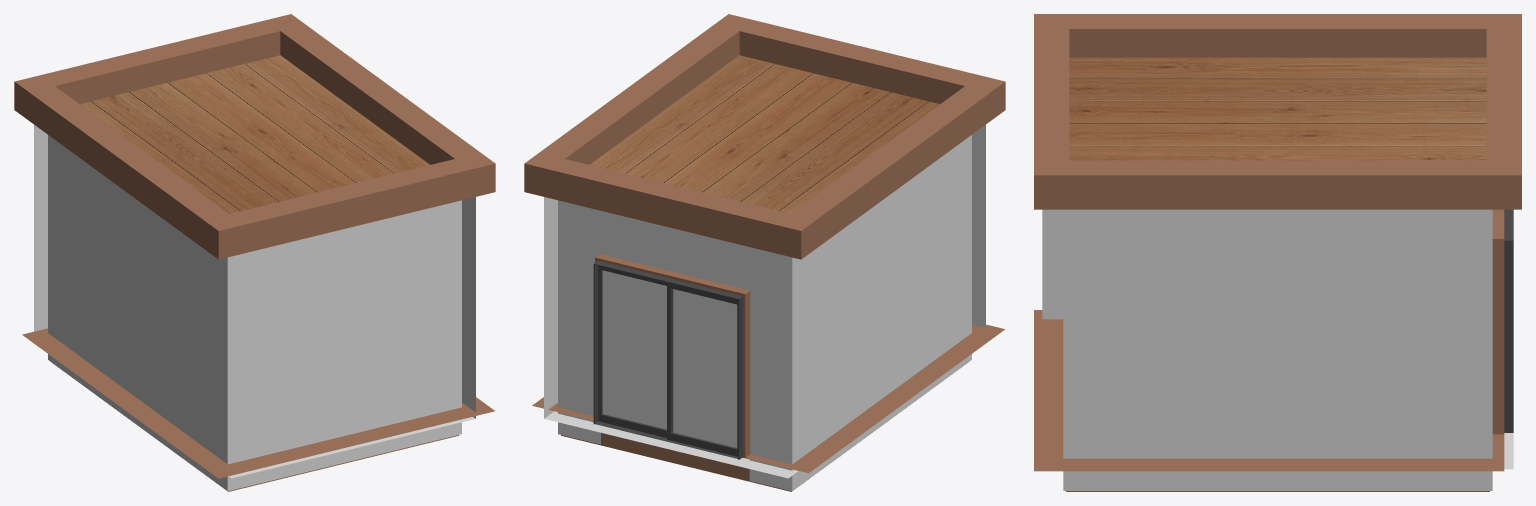
The model's file is japanese.glb.
The picture shows the model from 3 angles, left to right: view 1: azimuth 30°, elevation 25°; view 2: azimuth 150°, elevation 25°; view 3: azimuth 270°, elevation 25°; orthographic projection. The views are drawn at different scales.
Visible parts, largest first — view 1: Wall, Nagesi.001, Ceiling, __ROOM_WALL__, FloorEdge, LightBlocker; view 2: Nagesi.001, Wall, __ROOM_WALL__, Ceiling, Wall.001, LightBlocker, FloorEdge, Cube.002, MadoFrame, Cube.003, Cube.001; view 3: Wall, __ROOM_WALL__, Nagesi.001, Ceiling, FloorEdge, MadoFrame, LightBlocker, Cube.002.
Part boxes in pixels (<box>): Wall: <box>48,135,461,491</box>; Nagesi.001: <box>14,14,495,259</box>; Ceiling: <box>80,55,429,213</box>; __ROOM_WALL__: <box>48,135,461,461</box>; FloorEdge: <box>22,328,494,491</box>; LightBlocker: <box>34,125,475,478</box>; Nagesi.001: <box>524,14,1005,259</box>; Wall: <box>792,135,971,490</box>; __ROOM_WALL__: <box>558,136,971,463</box>; Ceiling: <box>590,55,939,213</box>; Wall.001: <box>558,200,792,490</box>; LightBlocker: <box>544,125,985,478</box>; FloorEdge: <box>532,324,1005,491</box>; Cube.002: <box>593,261,742,459</box>; MadoFrame: <box>595,254,750,457</box>; Cube.003: <box>667,278,742,457</box>; Cube.001: <box>598,261,673,437</box>; Wall: <box>1063,209,1492,490</box>; __ROOM_WALL__: <box>1063,209,1492,458</box>; Nagesi.001: <box>1034,14,1521,209</box>; Ceiling: <box>1069,57,1486,160</box>; FloorEdge: <box>1034,310,1504,491</box>; MadoFrame: <box>1492,209,1504,434</box>; LightBlocker: <box>1042,209,1513,469</box>; Cube.002: <box>1504,209,1513,432</box>.
Size of what is drawn, in the model's own units: 3.24 by 3.09 by 4.14.
5 materials, 2 textured.
